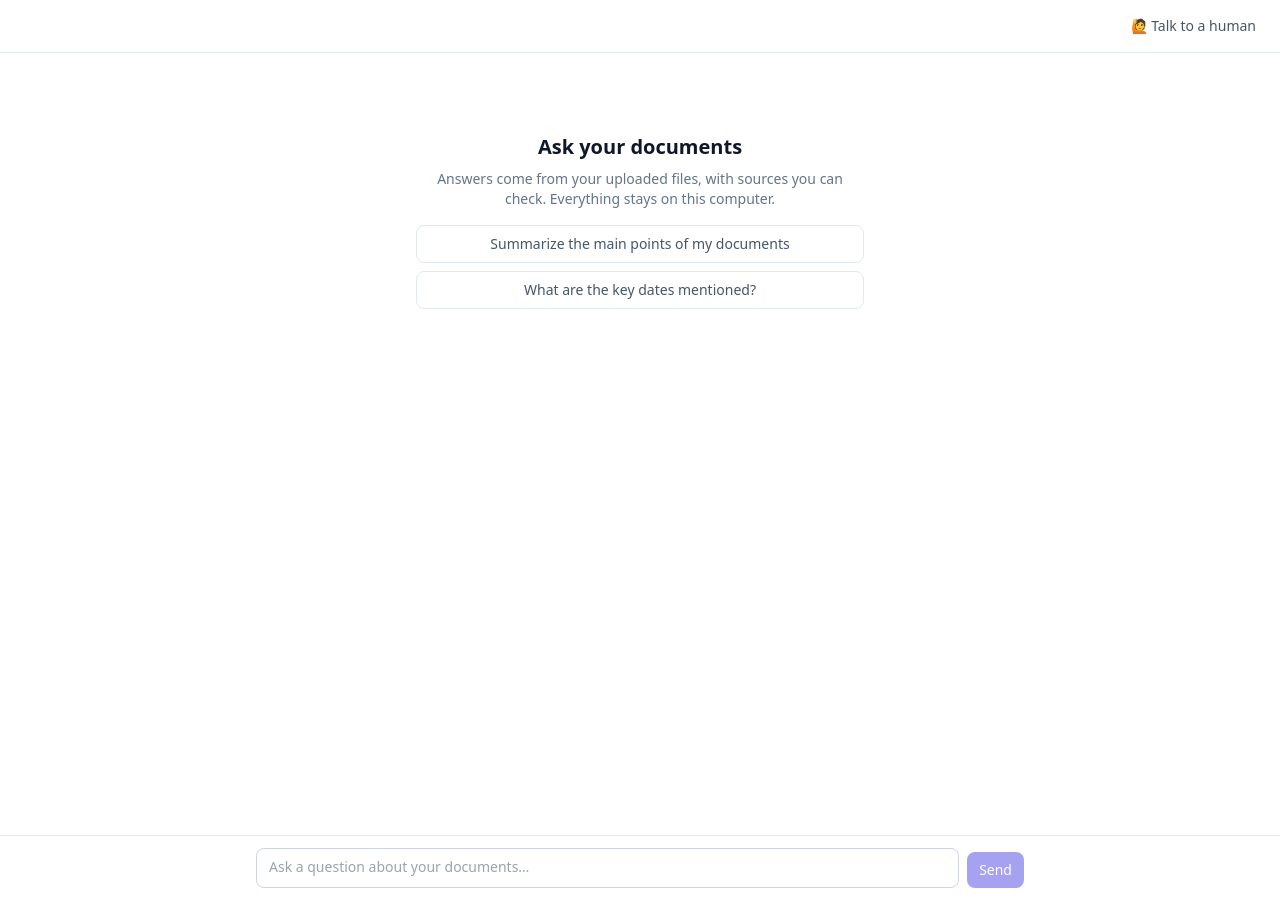
Test: ChatPage › shows server error events with a retry action
Step 1. Type "hello" into the text box named "Message" → (608, 868), box left=256, top=848, right=959, bottom=888
Then press Enter
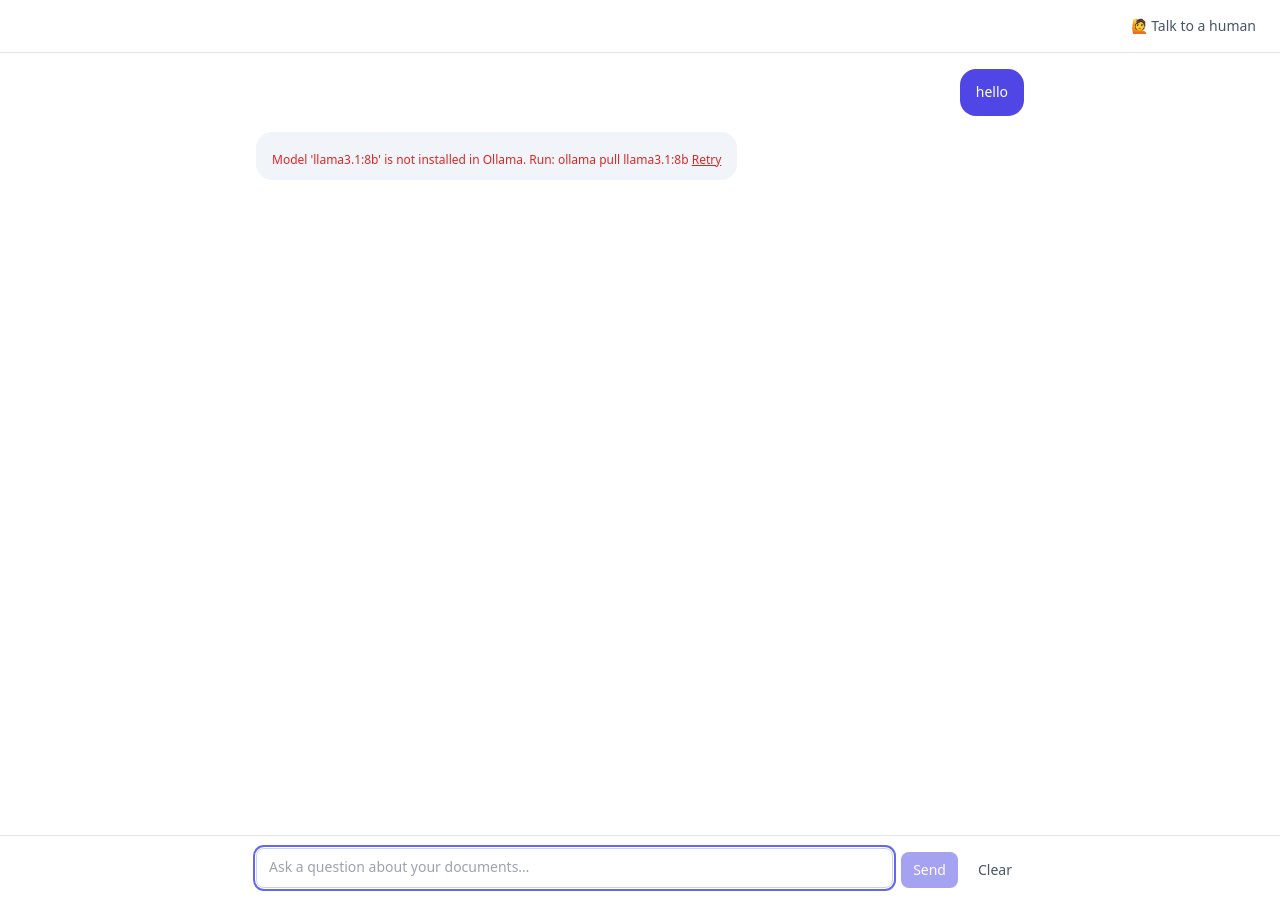
Now the message shows "ollama pull llama3.1:8b", box left=272, top=151, right=689, bottom=168
Step 2. Click the button "Retry" → click(706, 160), box left=692, top=152, right=721, bottom=168
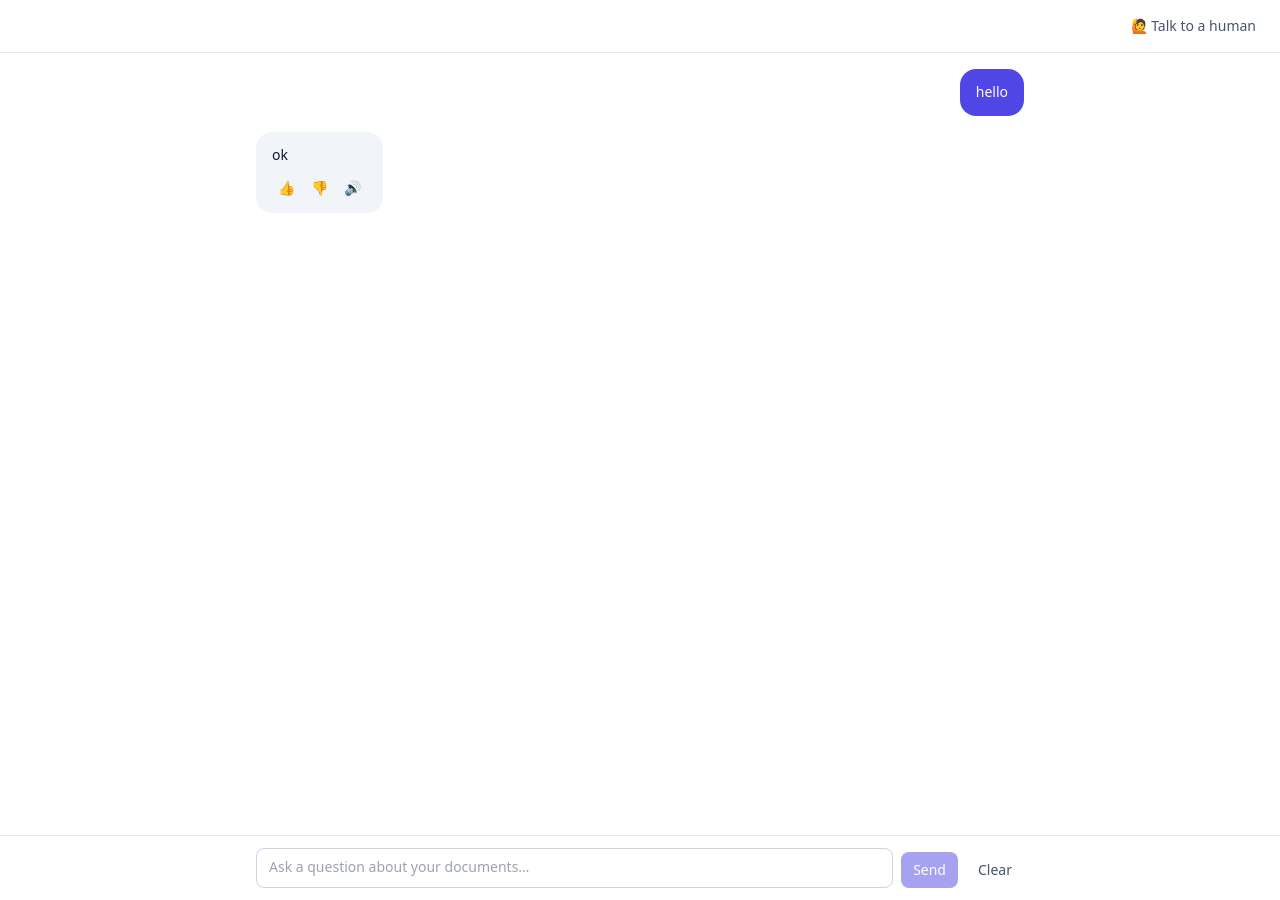
Now the text "ok" is shown, box left=272, top=145, right=288, bottom=164
